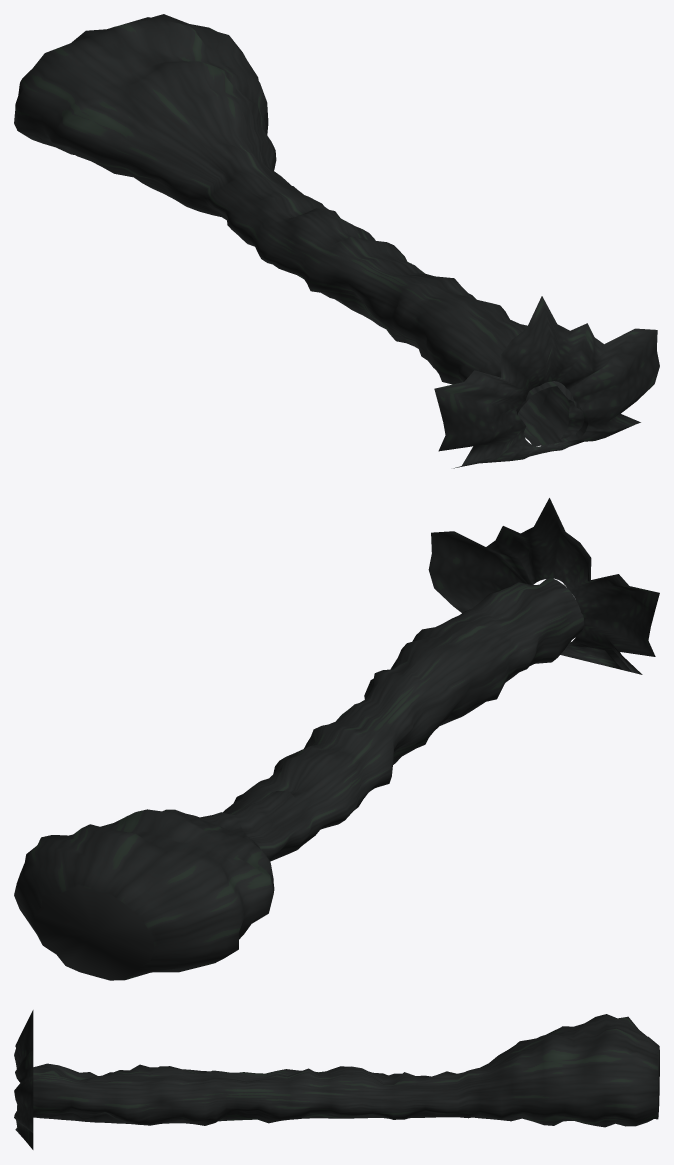
Rendered from cave.glb.
The picture shows the model from 3 angles, top to bottom: view 1: azimuth 30°, elevation 25°; view 2: azimuth 150°, elevation 25°; view 3: azimuth 270°, elevation 25°; orthographic projection. The views are drawn at different scales.
Parts seen in each view (by area): view 1: Cave, CaveMouth; view 2: Cave, CaveMouth; view 3: Cave, CaveMouth.
Part boxes in pixels (x1,y1,x2,y2): Cave: [14, 14, 588, 446]; CaveMouth: [434, 296, 659, 468]; Cave: [14, 578, 584, 980]; CaveMouth: [428, 498, 659, 674]; Cave: [17, 1014, 659, 1127]; CaveMouth: [14, 1010, 33, 1149].
Bounding box in the file's own units: 13.45 × 8.43 × 46.21.
1 material, 1 textured.
